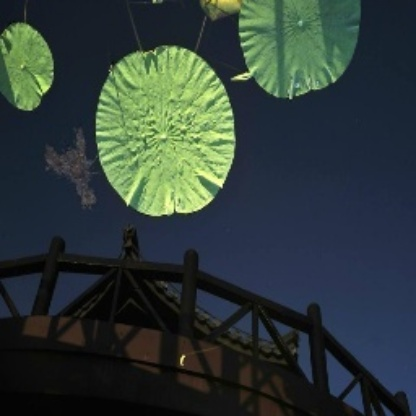leaf: (93, 43, 236, 221)
